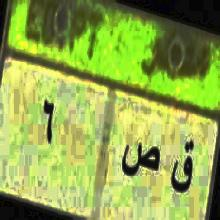6: (42, 94, 55, 150)
qaaf: (168, 134, 195, 199)
saad: (120, 131, 158, 187)
